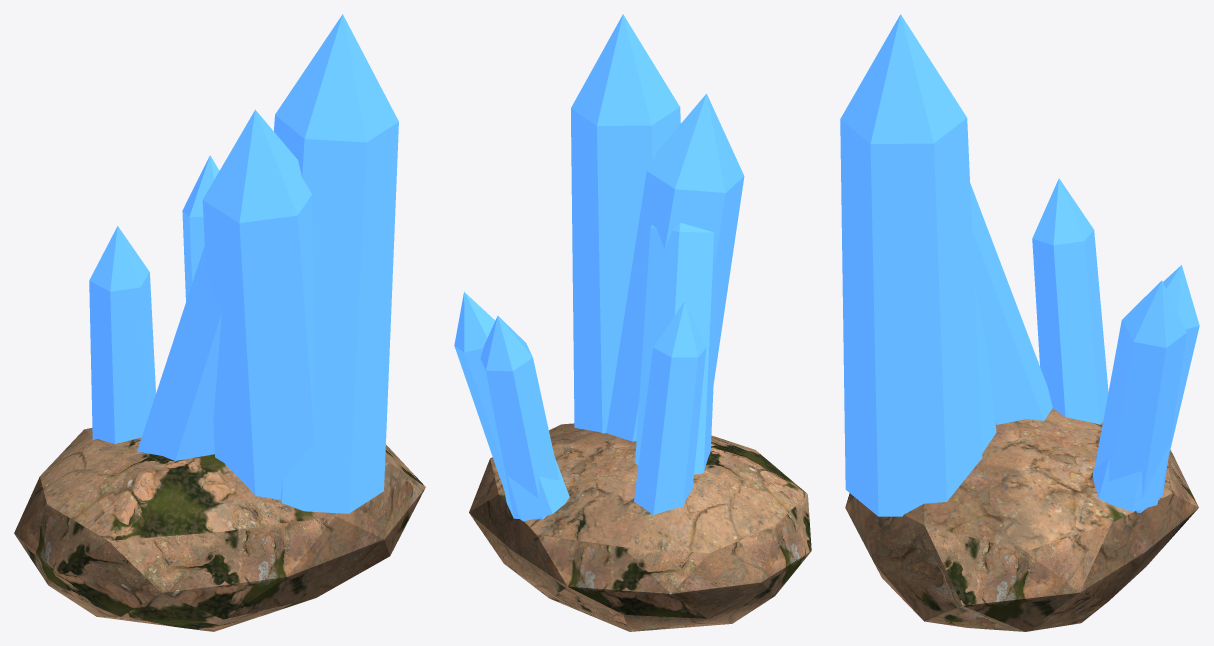
Rendered from Crystal_Blue_S.fbx.
3 renders of one model, left to right at view 1: azimuth 30°, elevation 25°; view 2: azimuth 150°, elevation 25°; view 3: azimuth 270°, elevation 25°, orthographic. The views are drawn at different scales.
Visible parts, largest first — view 1: Crystal_Blue_S; view 2: Crystal_Blue_S; view 3: Crystal_Blue_S.
Boxes of the visible parts, <box> form: Crystal_Blue_S: <box>14,14,425,631</box>; Crystal_Blue_S: <box>454,14,811,631</box>; Crystal_Blue_S: <box>840,14,1199,631</box>.
Size of the model in its own units: 1.56 by 2.54 by 1.31.
